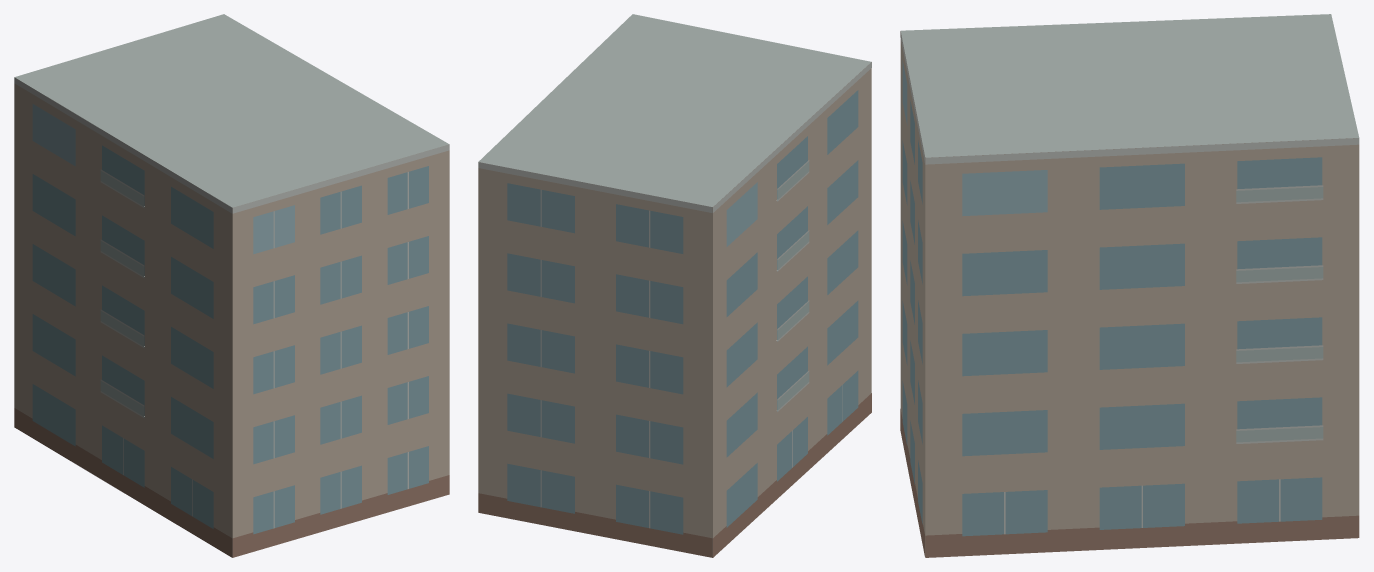
The model's file is survey-upis-32668246.glb.
The picture shows the model from 3 angles, left to right: view 1: azimuth 30°, elevation 25°; view 2: azimuth 150°, elevation 25°; view 3: azimuth 270°, elevation 25°; orthographic projection. The views are drawn at different scales.
Parts seen in each view (by area): view 1: survey-upis-32668246.tmp; view 2: survey-upis-32668246.tmp; view 3: survey-upis-32668246.tmp.
Boxes of the visible parts, x1,y1,x2,y2 form: survey-upis-32668246.tmp: (14, 14, 449, 557); survey-upis-32668246.tmp: (478, 14, 871, 557); survey-upis-32668246.tmp: (900, 14, 1359, 557).
Bounding box in the file's own units: 10.95 × 14.2 × 14.76.
